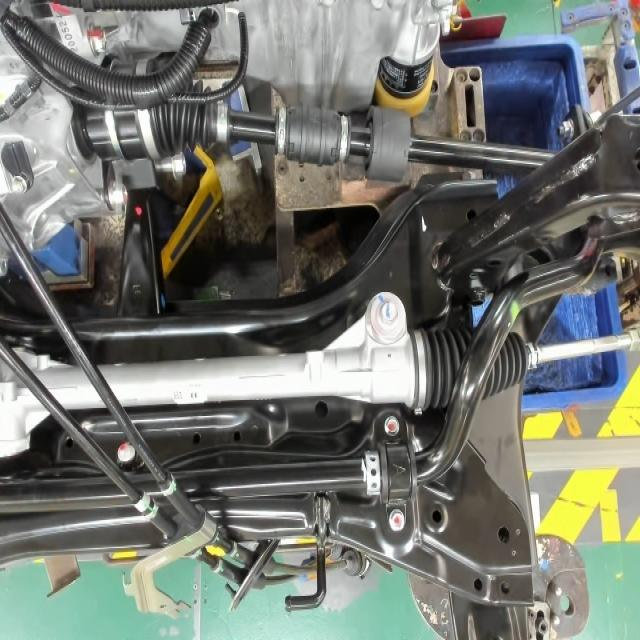Bar Stabilizer-HJ: (508, 300, 524, 328)
